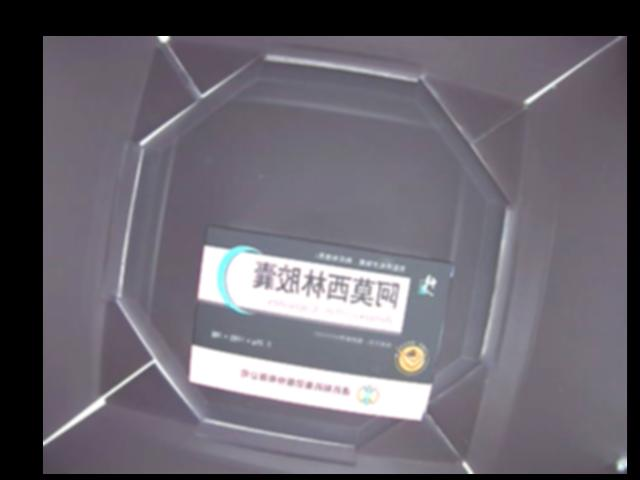Medicine: (188, 223, 455, 420)
